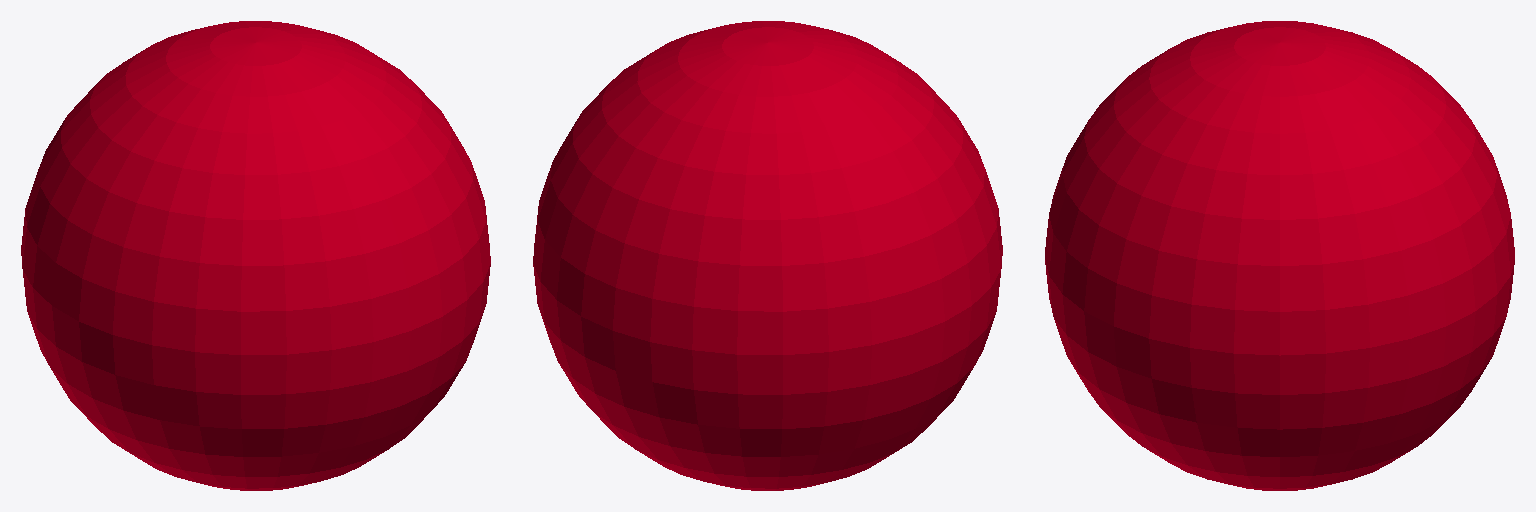
Rendered from EnemyOrb.obj.
The picture shows the model from 3 angles: view 1: azimuth 30°, elevation 25°; view 2: azimuth 150°, elevation 25°; view 3: azimuth 270°, elevation 25°; orthographic projection.
Parts seen in each view (by area): view 1: Sphere; view 2: Sphere; view 3: Sphere.
Boxes of the visible parts, x1=… form: Sphere: x1=21, y1=21, x2=490, y2=490; Sphere: x1=533, y1=21, x2=1002, y2=490; Sphere: x1=1045, y1=21, x2=1514, y2=490.
Size of the model in its own units: 2 by 2 by 2.